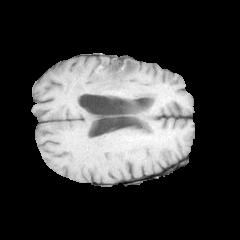glioma: (70, 58, 160, 133)
